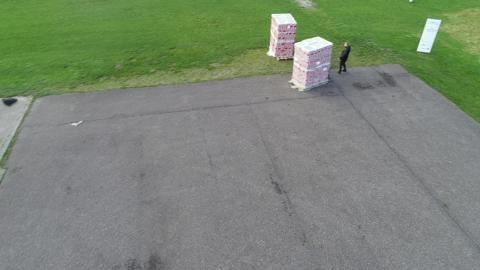RockwoolPallet: (270, 13, 296, 62)
